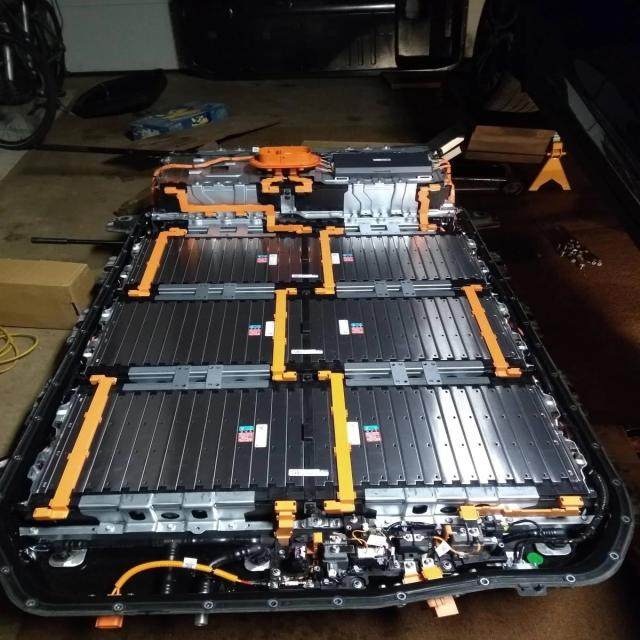Aluminum-frame: (78, 492, 255, 524), (366, 486, 539, 518), (345, 360, 490, 386), (123, 365, 269, 390), (336, 280, 455, 298), (154, 284, 274, 300), (347, 186, 416, 209), (345, 219, 437, 236), (187, 222, 276, 237), (193, 187, 256, 204)
Battery Module: (80, 391, 335, 484), (350, 387, 577, 482), (291, 297, 489, 360), (99, 300, 274, 364), (329, 235, 487, 282), (157, 238, 302, 281)
Bolt: (104, 524, 117, 532), (27, 526, 40, 534), (227, 521, 238, 529), (423, 558, 434, 566), (164, 523, 176, 530), (330, 535, 340, 543), (330, 544, 340, 552), (458, 527, 466, 535), (580, 515, 589, 522), (406, 562, 416, 568), (471, 527, 478, 535), (383, 518, 392, 524), (445, 518, 453, 524), (506, 516, 514, 522)
Bus-bar: (32, 375, 117, 518), (166, 188, 311, 232), (463, 285, 521, 376), (318, 371, 354, 512), (128, 229, 186, 297), (460, 496, 583, 518), (272, 288, 297, 378), (315, 229, 343, 292), (275, 501, 295, 551), (419, 184, 440, 230), (289, 169, 312, 193), (261, 169, 283, 193)
Cable: (151, 156, 251, 180), (436, 160, 456, 201)
Nut: (348, 512, 358, 522), (313, 516, 324, 524), (347, 211, 356, 220), (442, 561, 452, 569), (362, 142, 373, 149), (272, 568, 281, 576), (192, 214, 202, 221), (376, 211, 386, 218), (250, 213, 259, 220), (445, 210, 454, 217), (381, 143, 391, 149), (222, 214, 230, 221), (406, 210, 414, 217), (235, 144, 242, 152), (217, 145, 225, 152), (345, 144, 352, 151), (269, 581, 277, 587), (154, 215, 160, 220)
Screw: (304, 580, 314, 588), (353, 580, 362, 588), (284, 190, 291, 200), (314, 565, 323, 572), (497, 541, 505, 548)
